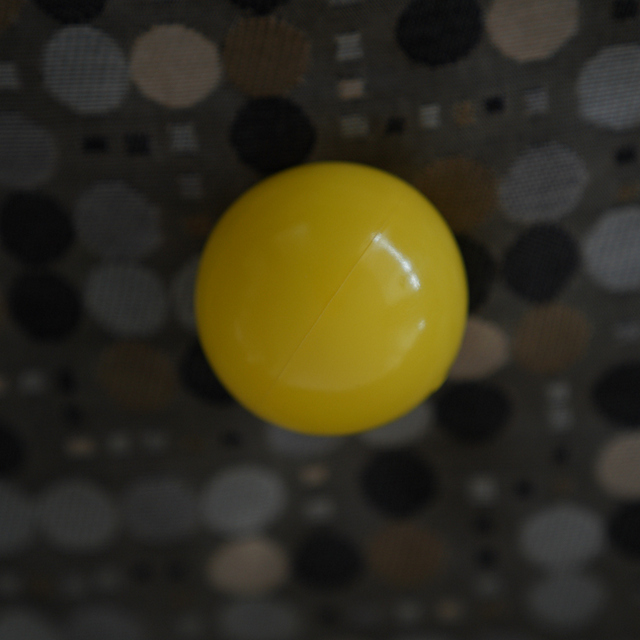Ball: (190, 163, 463, 430)
